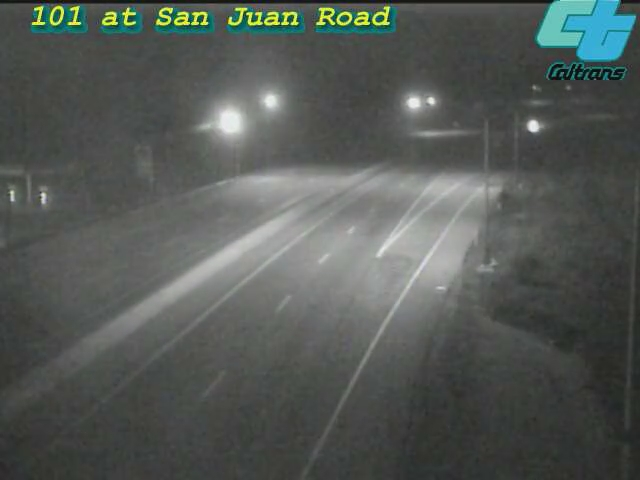vehicle: (508, 100, 558, 150)
